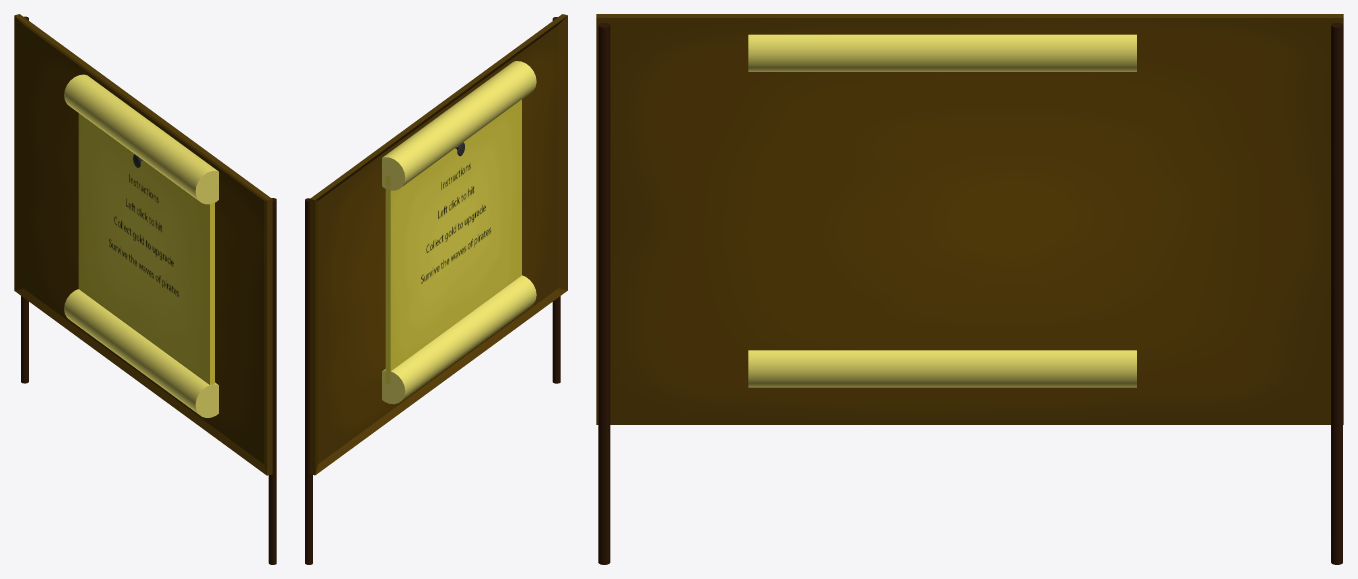
The model's file is BillBoard.FBX.
The picture shows the model from 3 angles, left to right: view 1: azimuth 30°, elevation 25°; view 2: azimuth 150°, elevation 25°; view 3: azimuth 270°, elevation 25°; orthographic projection. The views are drawn at different scales.
Visible parts, largest first — view 1: Box001, Box002; view 2: Box001, Box002; view 3: Box001, Box002.
Boxes of the visible parts, left/top/right/bottom form: Box001: left=14, top=14, right=276, bottom=564; Box002: left=64, top=74, right=218, bottom=417; Box001: left=305, top=14, right=567, bottom=564; Box002: left=382, top=61, right=536, bottom=404; Box001: left=596, top=14, right=1343, bottom=564; Box002: left=748, top=34, right=1136, bottom=387.
Bounding box in the file's own units: 7.77 × 85 × 106.
Materials: 3 (2 with a texture image).
